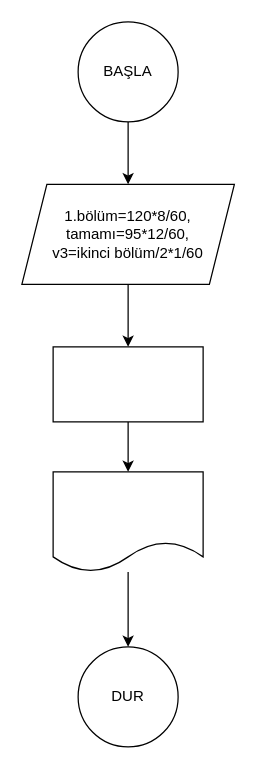
Some shapes in this 256 by 769 pixel diagram are drawn without their labels. Each missing label, with the box of its shape:
v3=(95*12/60-120*8/60)*2/60: (52, 346, 203, 422)
v3=3.araç hızı: (52, 471, 203, 572)
